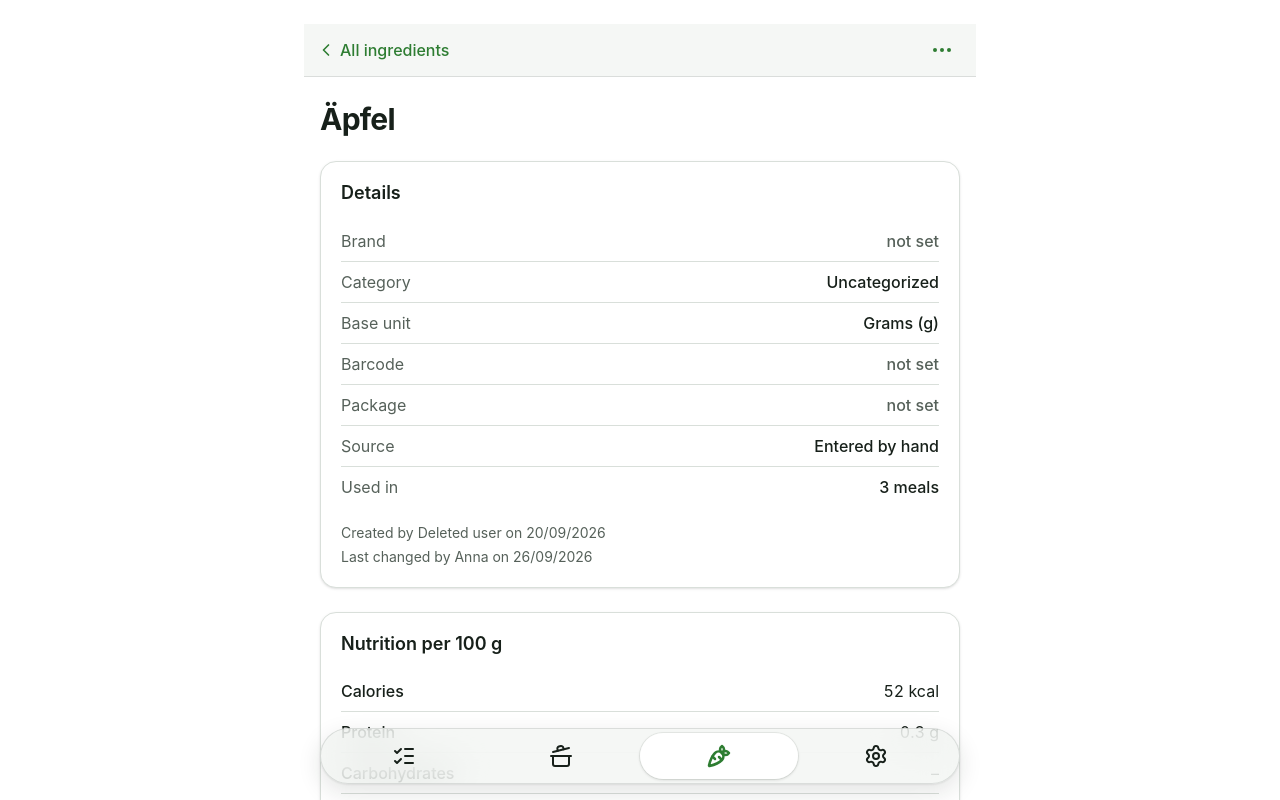
IngredientDetailScreen › shows Uncategorized, and saves its other fields without asking for a category (ING-02)
Expected: the text "Uncategorized" is shown, [826,270,939,294]
Click the button with test id "more-actions": (942, 50) [920,28,964,72]
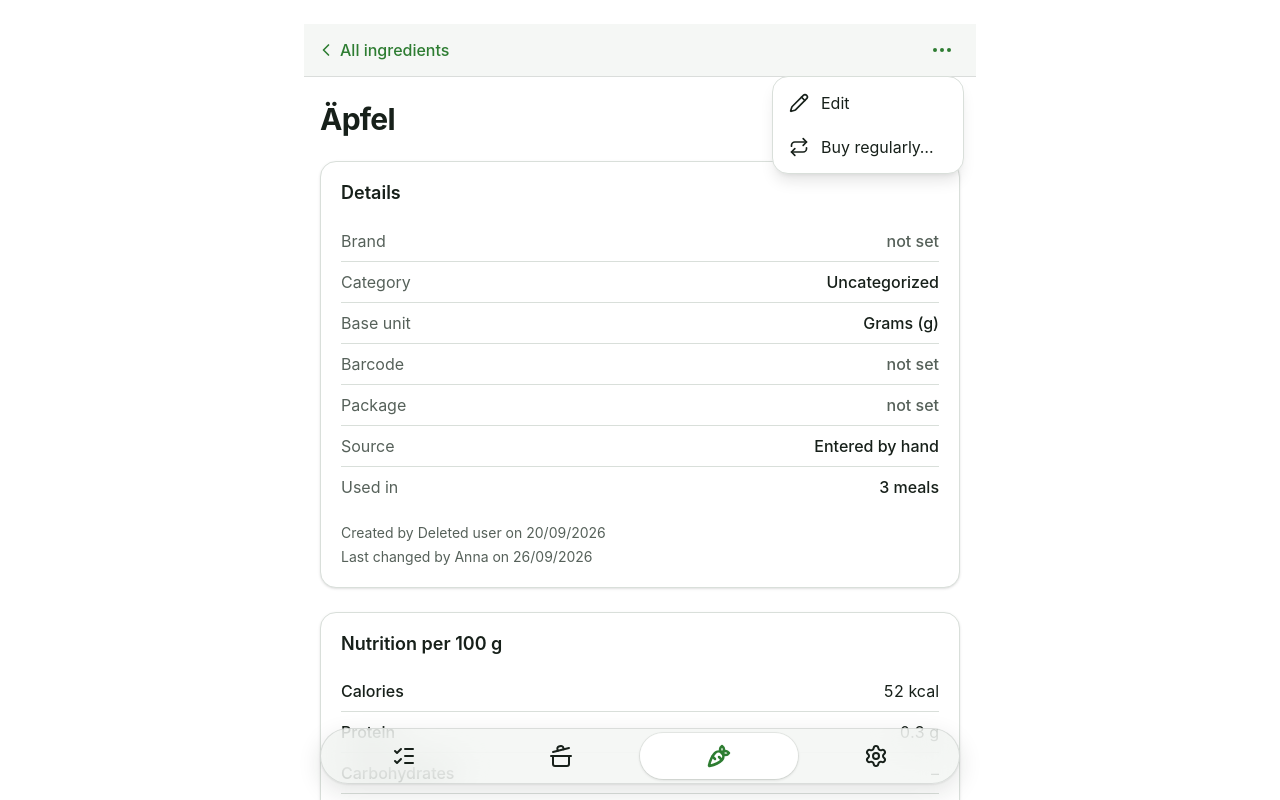
Click the menu item with test id "edit-ingredient": (819, 103) [789,93,850,113]
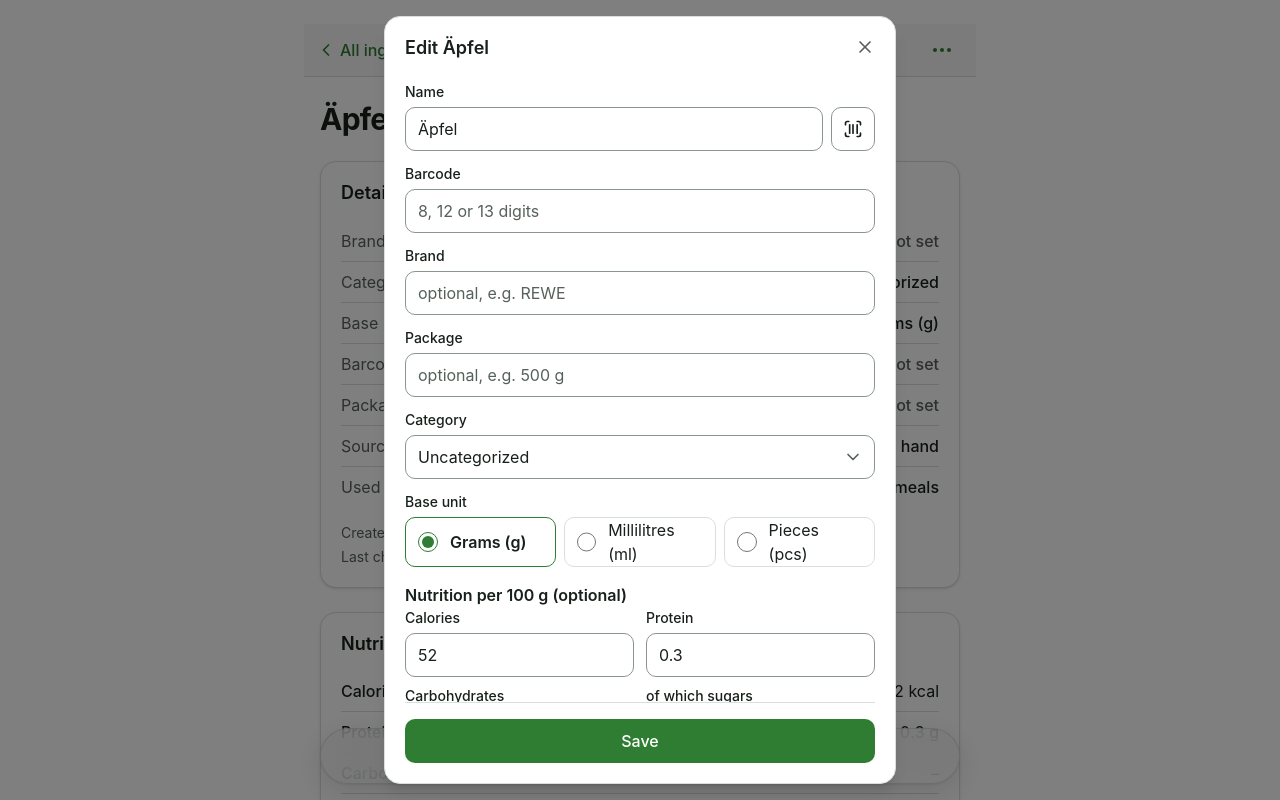
Result: the dropdown labelled "Category" shows "Uncategorized" at [405,435,875,479]
In the field labelled "Brand": (640, 293) [405,271,875,315], type "Hofgut"
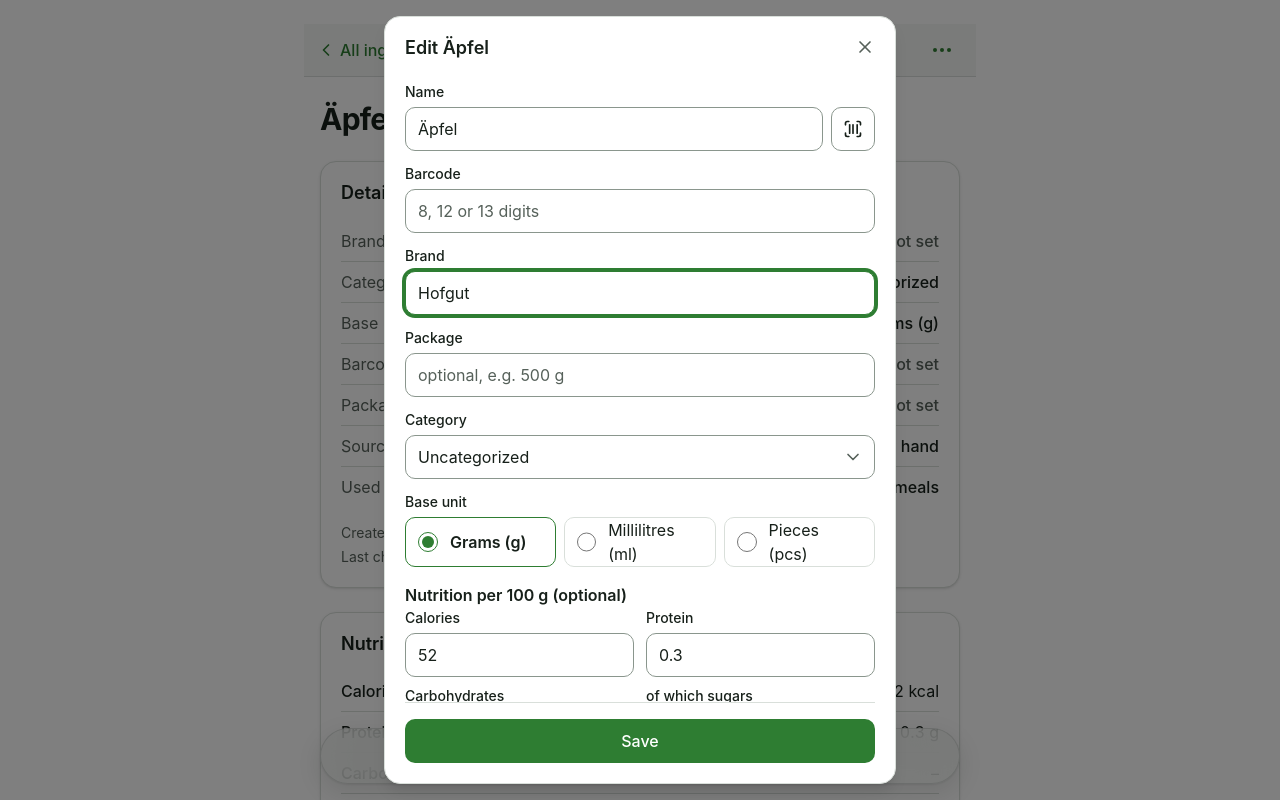
Click the button "Save": (640, 741) [405,719,875,763]
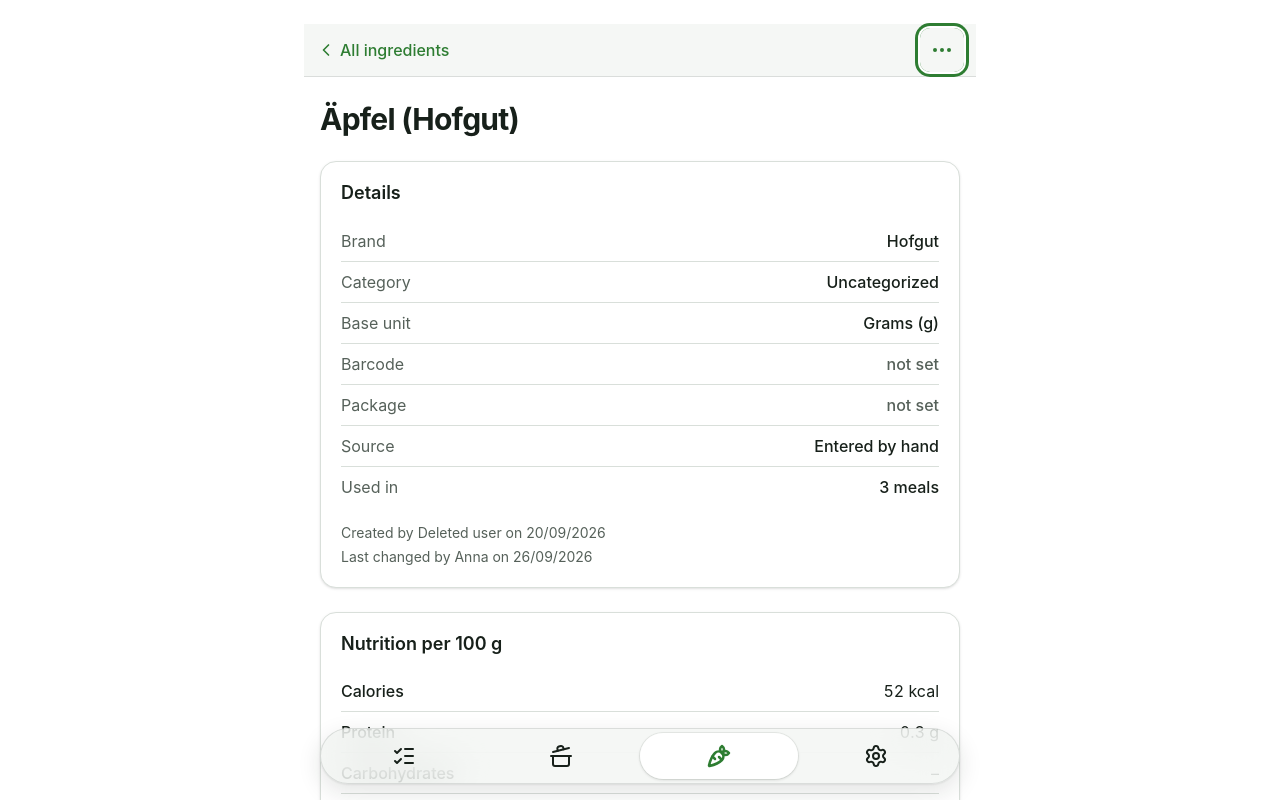
Result: the heading "Edit Äpfel" is gone
